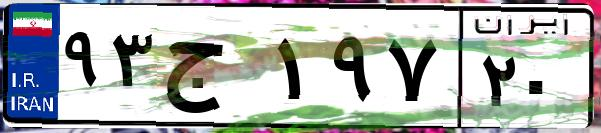0: (525, 38, 570, 115)
1: (270, 28, 330, 110)
2: (475, 38, 525, 113)
3: (110, 28, 158, 98)
7: (385, 28, 445, 110)
9: (330, 28, 385, 110), (57, 26, 110, 100)
ج: (158, 20, 270, 120)
